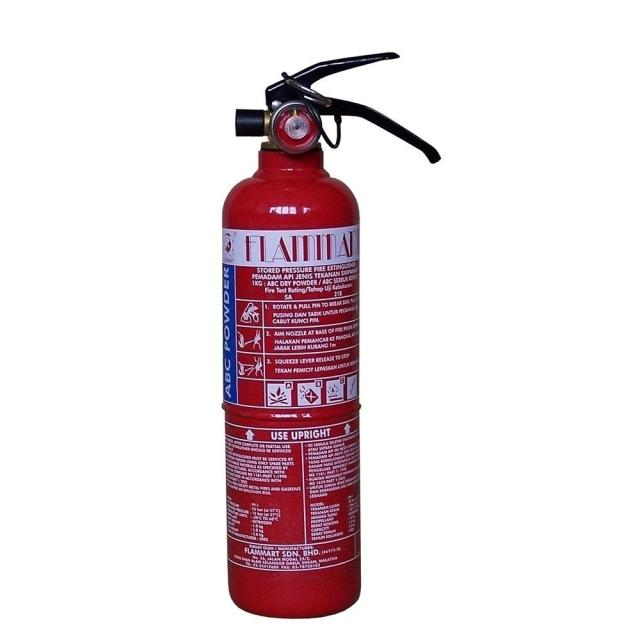fire_extinguisher: (215, 49, 444, 622)
